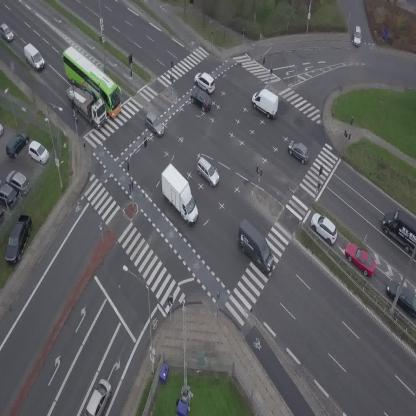bicycle: (126, 178, 136, 196)
bus: (53, 43, 132, 119)
car: (340, 238, 382, 281), (305, 209, 343, 247), (82, 377, 116, 416), (191, 156, 224, 188), (185, 85, 218, 116), (283, 136, 314, 165), (140, 110, 169, 138), (191, 68, 219, 95), (0, 21, 16, 44), (353, 25, 361, 45)
lorry: (149, 162, 211, 227), (226, 217, 285, 275), (59, 76, 115, 131), (246, 84, 284, 121), (19, 42, 49, 72)
